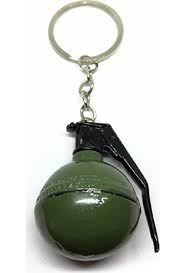e1: (34, 122, 162, 265)
